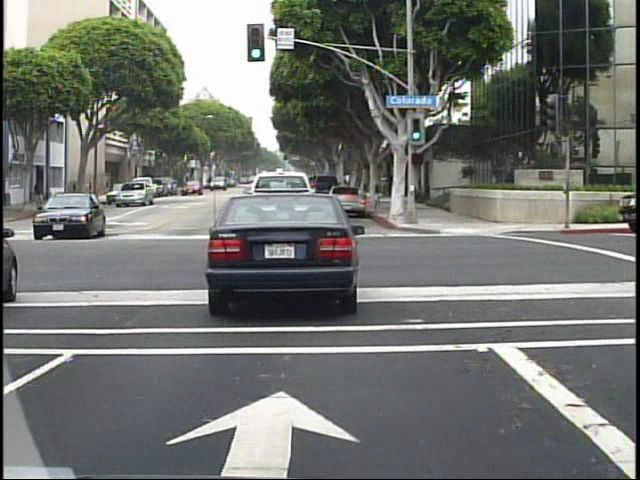person: (34, 178, 46, 211)
